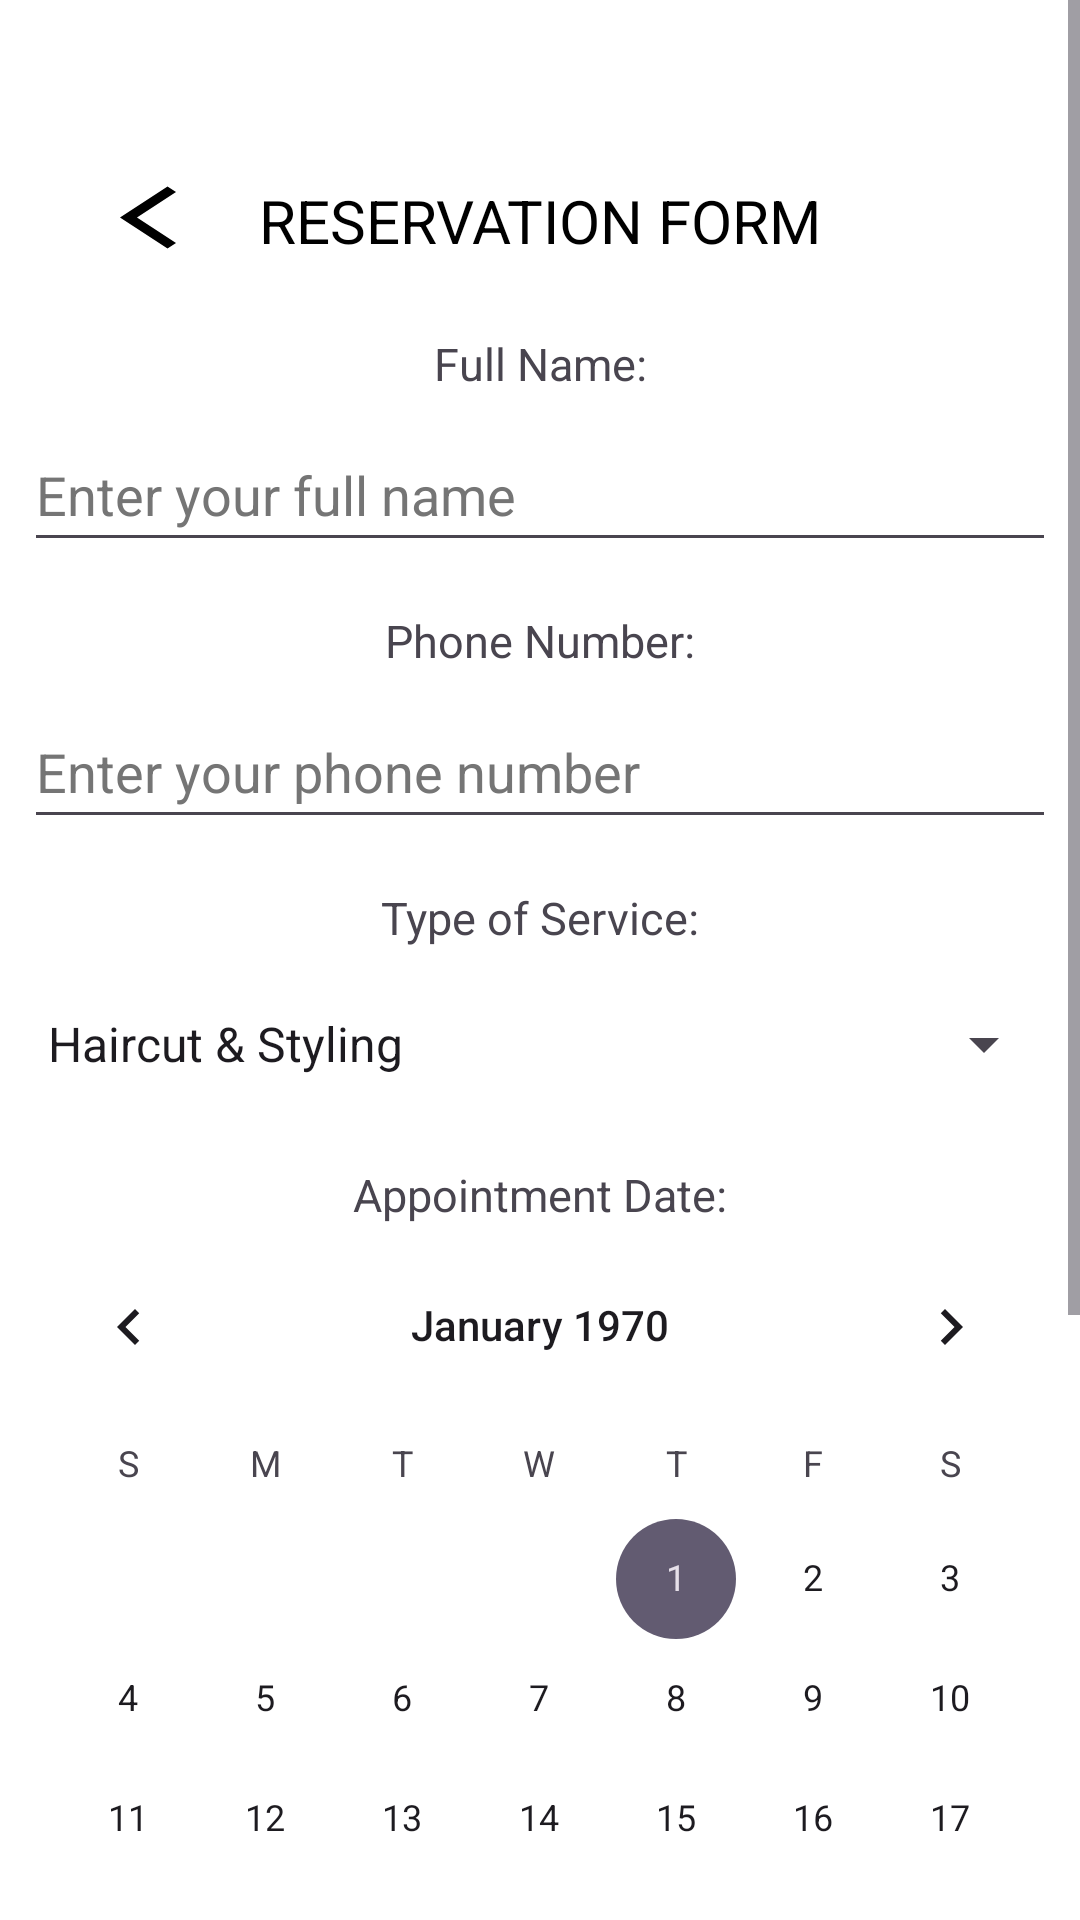

Icons on this 1080x1920 Android screen, each with the point to tap as (x=x, y=y):
back button: (x=148, y=217)
